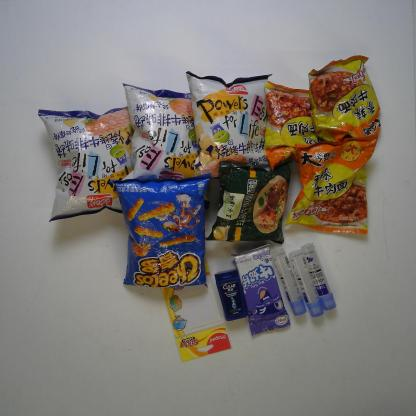Candy: (232, 243, 292, 337)
Instant Noodles: (282, 131, 380, 235), (205, 160, 293, 245), (308, 53, 382, 142), (263, 80, 325, 173)
Personal Hygiene: (214, 268, 247, 322)
Puffed Food: (118, 82, 210, 210), (109, 172, 209, 289), (36, 105, 134, 223), (185, 70, 274, 179)
Stationery: (161, 256, 232, 362), (300, 241, 338, 312), (288, 248, 325, 319), (271, 247, 307, 317)
